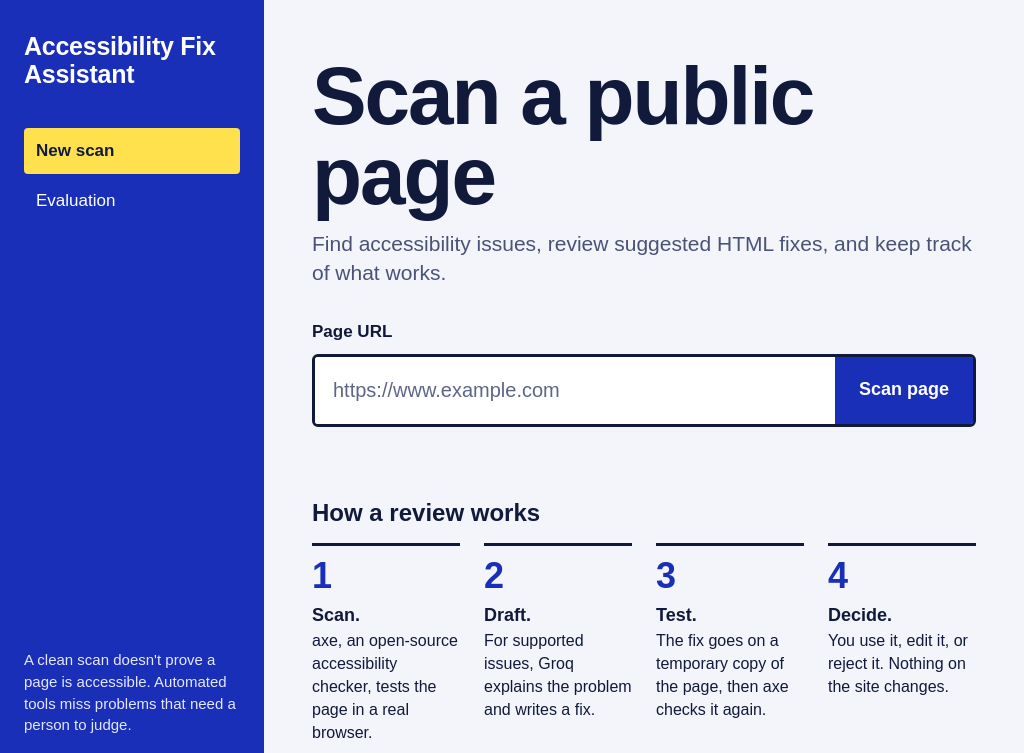
Test: new scan › explains when the server is down
The image size is (1024, 753).
Type "https://example.com" into the field labelled "Page URL".
click(575, 390); type("https://example.com")  # box [315, 357, 835, 424]
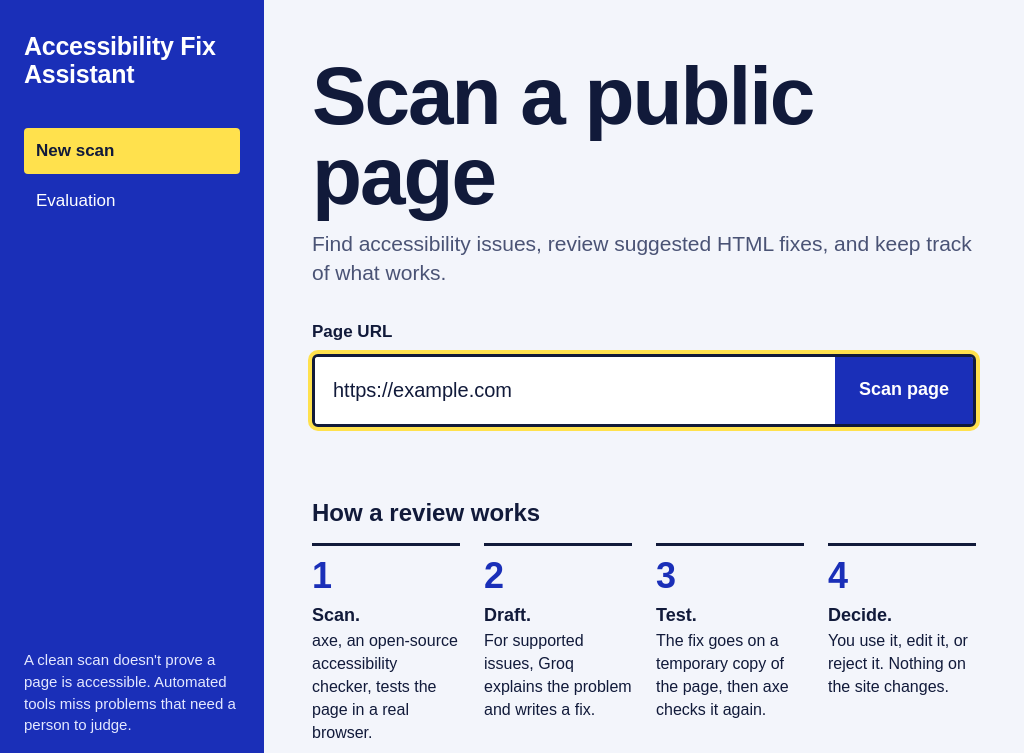
Click the button "Scan page".
click(904, 390)  # box [835, 357, 973, 424]
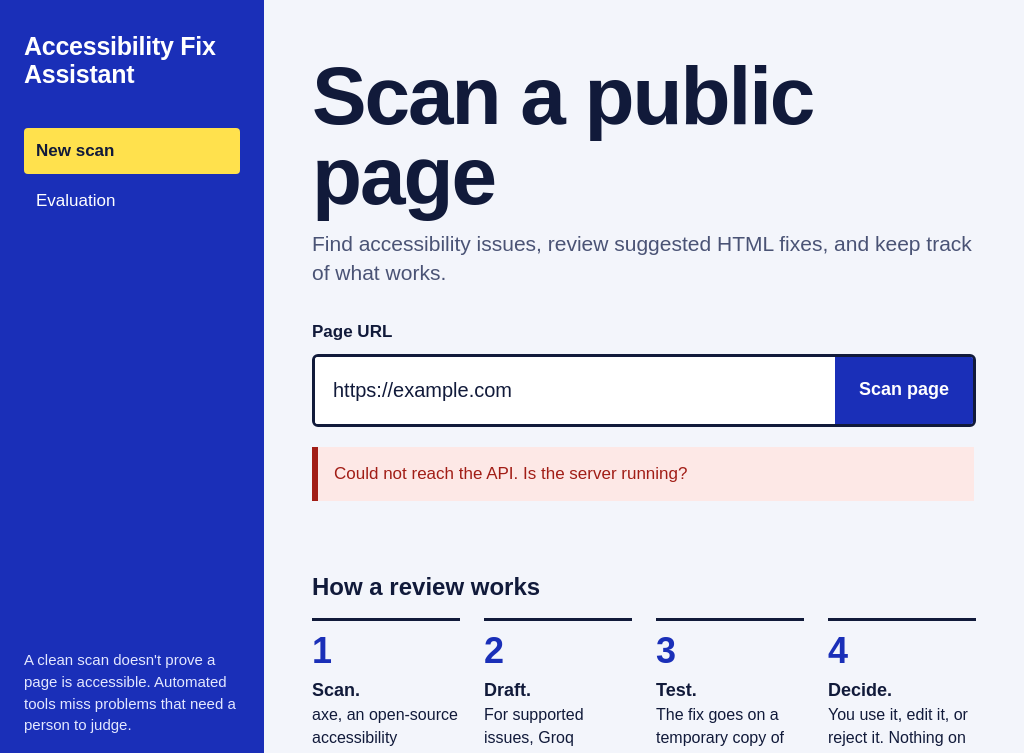
Check: the message shows "Is the server running?", box [334, 464, 687, 483]
